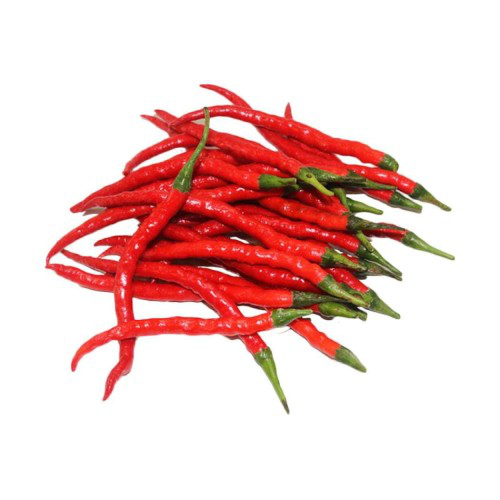Cabai: (85, 86, 390, 429)
